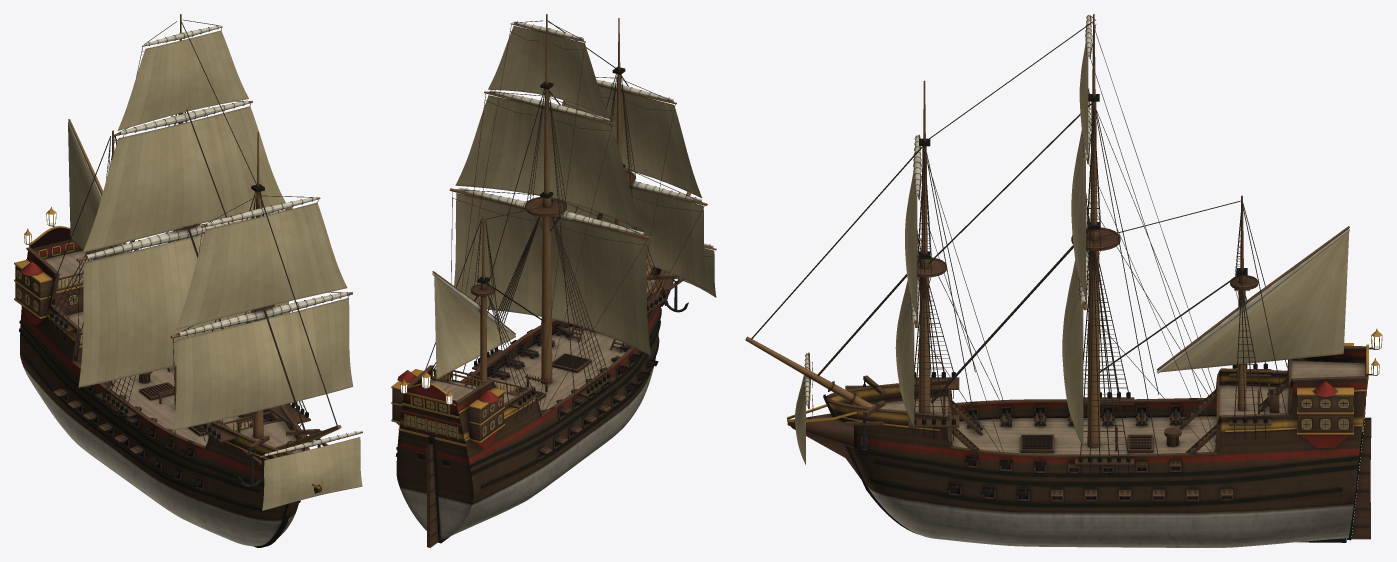
The model's file is galleon.glb.
3 renders of one model, left to right at view 1: azimuth 30°, elevation 25°; view 2: azimuth 150°, elevation 25°; view 3: azimuth 270°, elevation 25°, orthographic. The views are drawn at different scales.
Visible parts, largest first — view 1: sails_set_fittings, body, sails_furled_mesh, fittings, sails_furled_fittings; view 2: sails_set_fittings, body, fittings, sails_furled_mesh, rudder_mesh; view 3: body, sails_set_fittings, fittings, sails_furled_mesh, rudder_mesh.
Boxes of the visible parts, x1,y1,x2,y2 form: sails_set_fittings: (68,30,362,510); body: (14,14,362,547); sails_furled_mesh: (68,25,359,456); fittings: (17,19,349,462); sails_furled_fittings: (93,25,356,456); sails_set_fittings: (434,26,716,378); body: (391,14,716,543); fittings: (401,20,712,436); sails_furled_mesh: (432,21,713,336); rudder_mesh: (426,443,438,547); body: (745,14,1382,547); sails_set_fittings: (795,42,1349,464); fittings: (751,15,1381,458); sails_furled_mesh: (804,15,1349,405); rudder_mesh: (1351,417,1371,539).
Bounding box in the file's own units: 19.2 × 41.22 × 45.15.
Materials: 5 (2 with a texture image).
